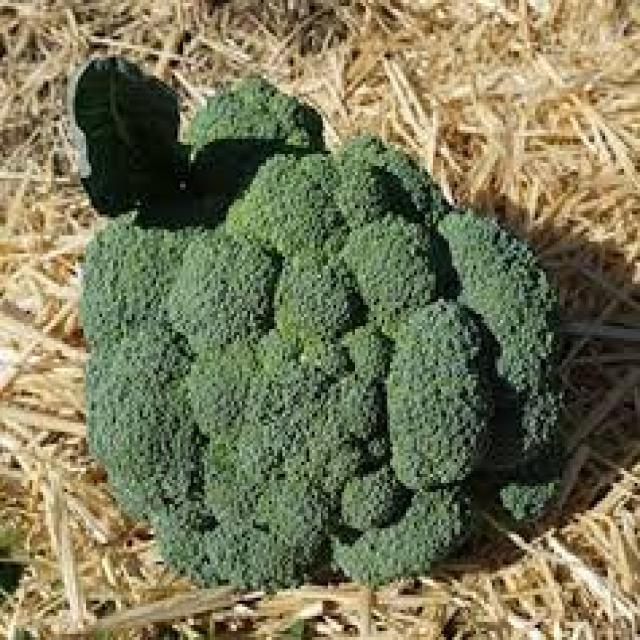broccoli: (68, 64, 579, 596)
